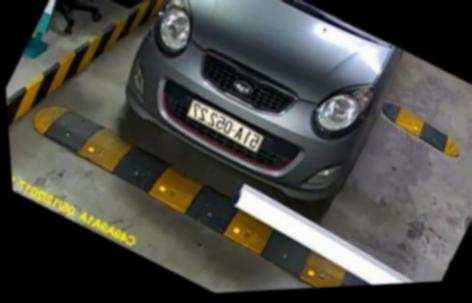License_Plate: (186, 96, 271, 160)
